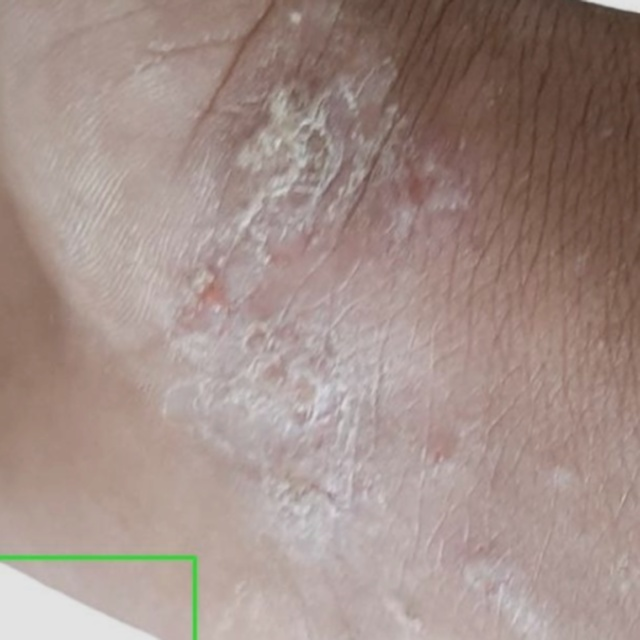Scabies: (0, 557, 194, 639)
